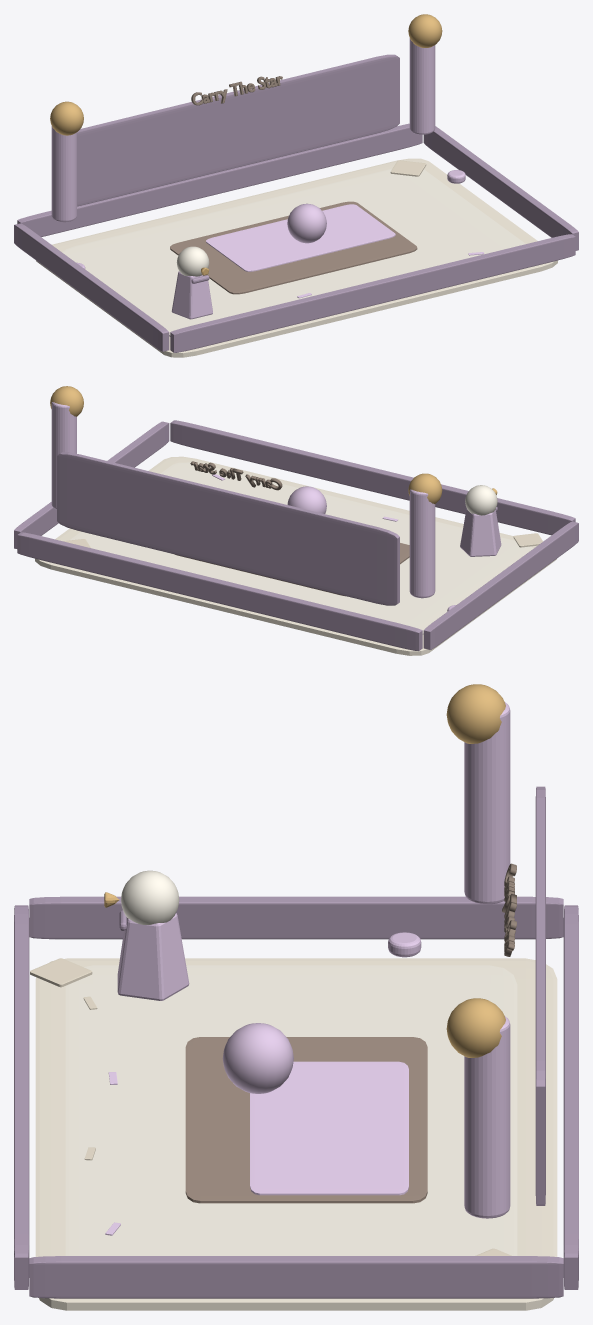
The model's file is 09_holdables.glb.
The picture shows the model from 3 angles, top to bottom: view 1: azimuth 30°, elevation 25°; view 2: azimuth 150°, elevation 25°; view 3: azimuth 270°, elevation 25°; orthographic projection. The views are drawn at different scales.
Parts seen in each view (by area): view 1: BackCard, FloorLayerInset, SouthRail-col, NorthRail-col, PaperFloor-col, StageMatHighlight, StageMat, WestRail-col, EastRail-col, PaperLantern.001, FpeRushPlayer, PaperLantern (+5 smaller); view 2: BackCard, FloorLayerInset, NorthRail-col, SouthRail-col, PaperFloor-col, WestRail-col, PaperLantern, FpeRushPlayer, EastRail-col, PaperLantern.001, CarryStar-rigid, TitleLabel (+3 smaller); view 3: FloorLayerInset, PaperFloor-col, EastRail-col, StageMatHighlight, WestRail-col, StageMat, PaperLantern.001, PaperLantern, FpeRushPlayer, NorthRail-col, SouthRail-col, BackCard (+5 smaller).
Part boxes in pixels (bbox=[...]): BackCard: bbox=[77, 54, 399, 206]; FloorLayerInset: bbox=[62, 168, 525, 336]; SouthRail-col: bbox=[170, 234, 575, 352]; NorthRail-col: bbox=[17, 123, 422, 236]; PaperFloor-col: bbox=[36, 158, 557, 357]; StageMatHighlight: bbox=[206, 204, 395, 271]; StageMat: bbox=[170, 201, 417, 294]; WestRail-col: bbox=[14, 223, 169, 351]; EastRail-col: bbox=[423, 126, 578, 250]; PaperLantern.001: bbox=[409, 38, 435, 134]; FpeRushPlayer: bbox=[171, 246, 212, 319]; PaperLantern: bbox=[51, 126, 76, 222]; BackCard: bbox=[57, 452, 399, 605]; FloorLayerInset: bbox=[70, 462, 533, 634]; NorthRail-col: bbox=[17, 532, 422, 650]; SouthRail-col: bbox=[170, 420, 575, 535]; PaperFloor-col: bbox=[35, 456, 556, 655]; WestRail-col: bbox=[423, 521, 578, 649]; PaperLantern: bbox=[409, 489, 435, 598]; FpeRushPlayer: bbox=[460, 485, 501, 556]; EastRail-col: bbox=[14, 421, 169, 548]; PaperLantern.001: bbox=[51, 402, 76, 509]; CarryStar-rigid: bbox=[287, 486, 326, 513]; TitleLabel: bbox=[190, 461, 282, 490]; FloorLayerInset: bbox=[65, 965, 517, 1255]; PaperFloor-col: bbox=[35, 958, 557, 1310]; EastRail-col: bbox=[29, 1256, 563, 1298]; StageMatHighlight: bbox=[250, 1061, 408, 1195]; WestRail-col: bbox=[29, 896, 563, 939]; StageMat: bbox=[185, 1037, 427, 1203]; PaperLantern.001: bbox=[464, 1016, 510, 1218]; PaperLantern: bbox=[464, 702, 510, 904]; FpeRushPlayer: bbox=[104, 870, 189, 1000]; NorthRail-col: bbox=[563, 905, 578, 1289]; SouthRail-col: bbox=[14, 905, 29, 1289]; BackCard: bbox=[535, 786, 545, 1205].
Size of the model in its own units: 6.8 by 2.56 by 4.44.
